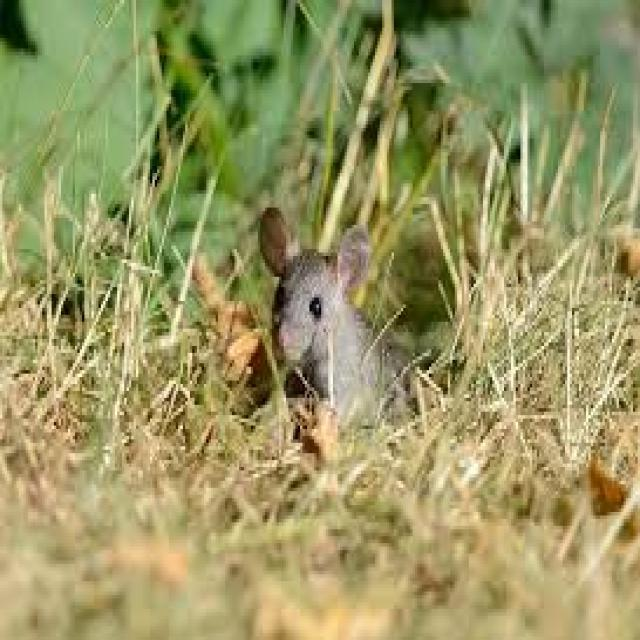rat: (255, 204, 415, 433)
